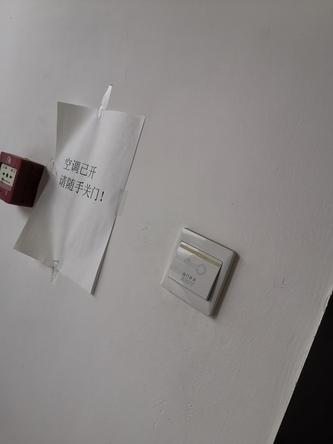switch: (156, 239, 232, 298)
